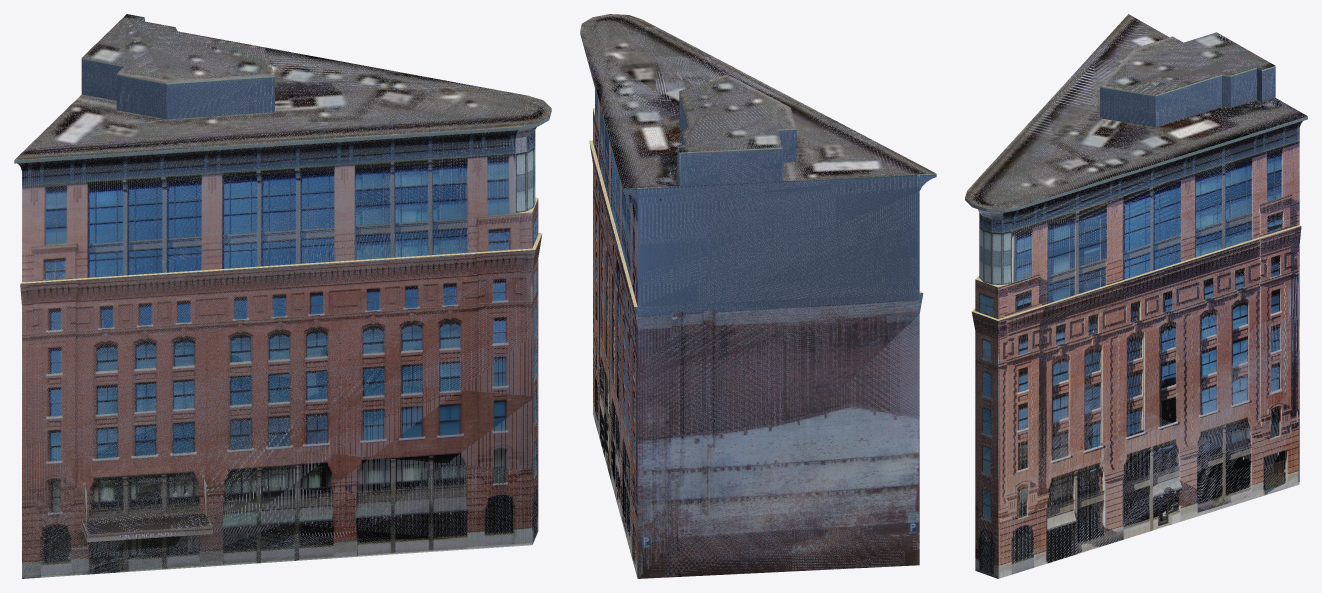
The model's file is BulfinchHotel.dae.
The picture shows the model from 3 angles, left to right: view 1: azimuth 30°, elevation 25°; view 2: azimuth 150°, elevation 25°; view 3: azimuth 270°, elevation 25°; orthographic projection. The views are drawn at different scales.
Parts seen in each view (by area): view 1: SketchUp (×9); view 2: SketchUp (×7); view 3: SketchUp (×10).
Boxes of the visible parts, <box> form: SketchUp (×9): <box>14,14,551,578</box>; SketchUp (×7): <box>580,14,936,578</box>; SketchUp (×10): <box>965,14,1307,578</box>.
Bounding box in the file's own units: 1603 × 1187 × 1548.
Materials: 38 (36 with a texture image).
